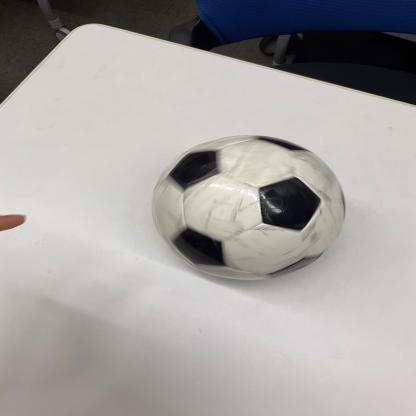ball: (154, 134, 346, 283)
